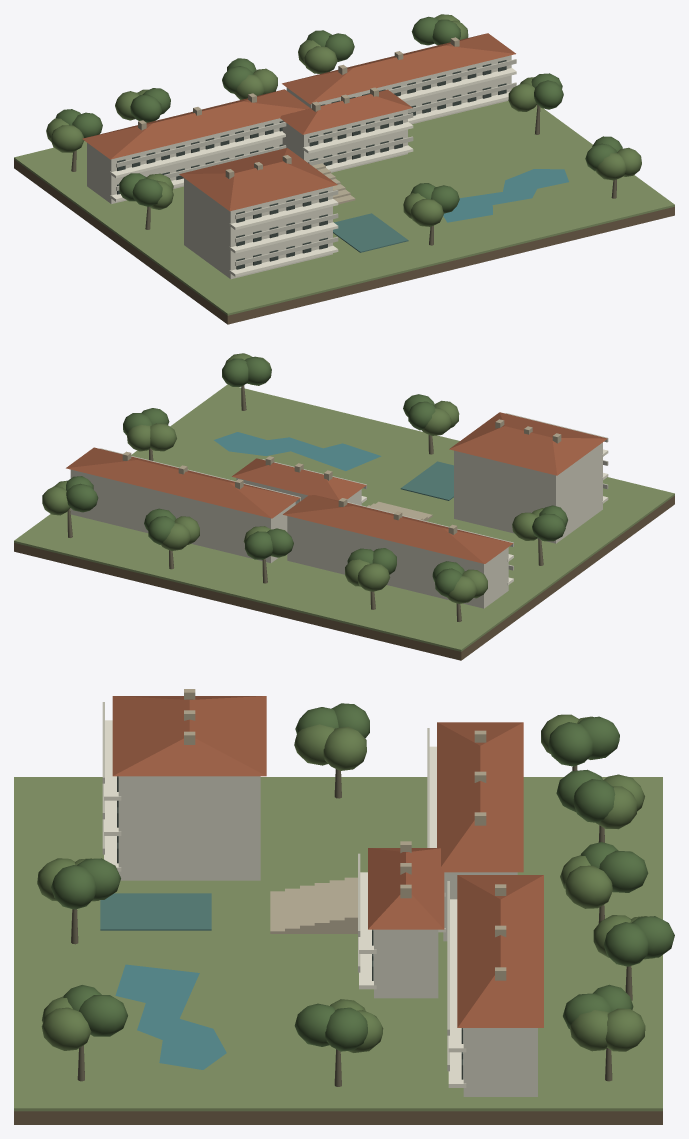
File: gms-17.glb
3 views of the same model, one above another, from view 1: azimuth 30°, elevation 25°; view 2: azimuth 150°, elevation 25°; view 3: azimuth 270°, elevation 25° (orthographic). The views are drawn at different scales.
Visible parts, largest first — view 1: GMS-17 - estudio del paisaje; view 2: GMS-17 - estudio del paisaje; view 3: GMS-17 - estudio del paisaje.
Part boxes in pixels (x1,y1,x2,y2): GMS-17 - estudio del paisaje: [14, 14, 674, 324]; GMS-17 - estudio del paisaje: [14, 353, 674, 660]; GMS-17 - estudio del paisaje: [14, 689, 674, 1124].
Size of the model in its own units: 11.6 by 2.4 by 9.78.
